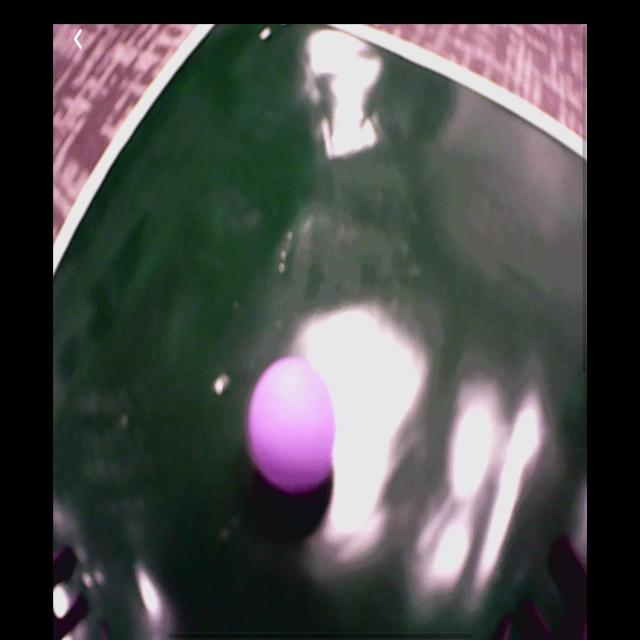ball: (246, 356, 339, 489)
